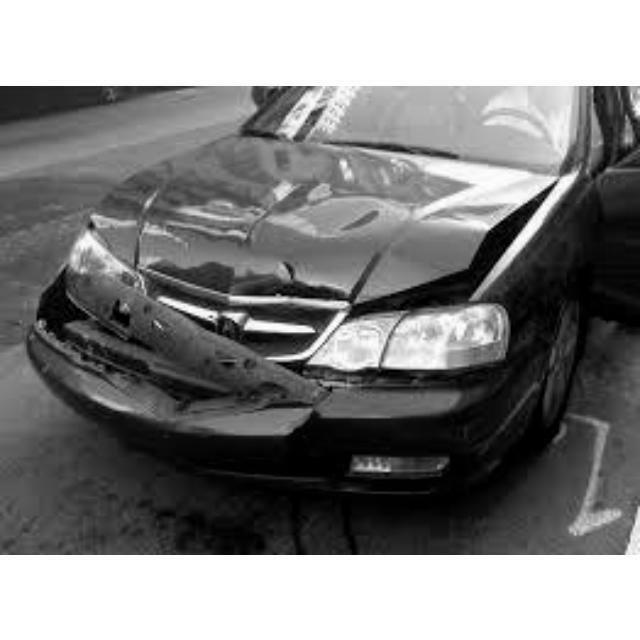bonnet-dent: (150, 117, 491, 295)
front-bumper-dent: (57, 288, 303, 446)
